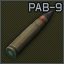9x39mm PAB-9 gs: (0, 0, 64, 64)
